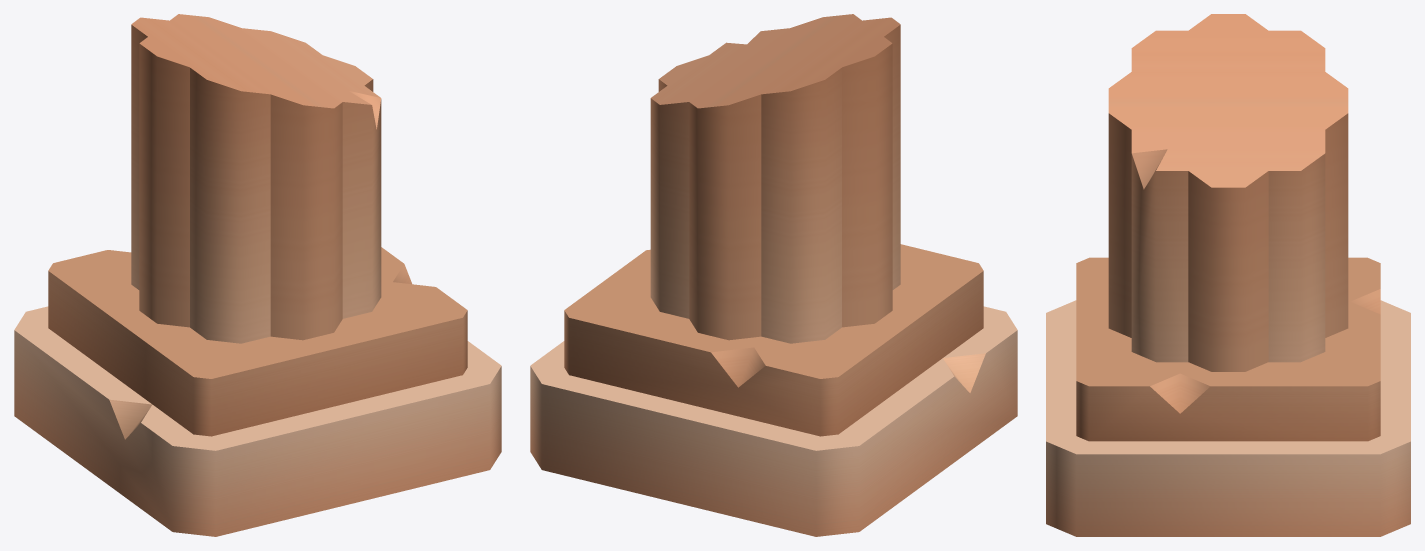
3 renders of one model, left to right at view 1: azimuth 30°, elevation 25°; view 2: azimuth 150°, elevation 25°; view 3: azimuth 270°, elevation 25°, orthographic. The views are drawn at different scales.
Visible parts, largest first — view 1: column_damaged; view 2: column_damaged; view 3: column_damaged.
Boxes of the visible parts, box(x1,y1,x2,y2) form: column_damaged: box(14, 14, 501, 536); column_damaged: box(530, 14, 1017, 536); column_damaged: box(1046, 14, 1410, 536).
Size of the model in its own units: 0.6 by 0.7157 by 0.6.
Materials: 1 (1 with a texture image).
